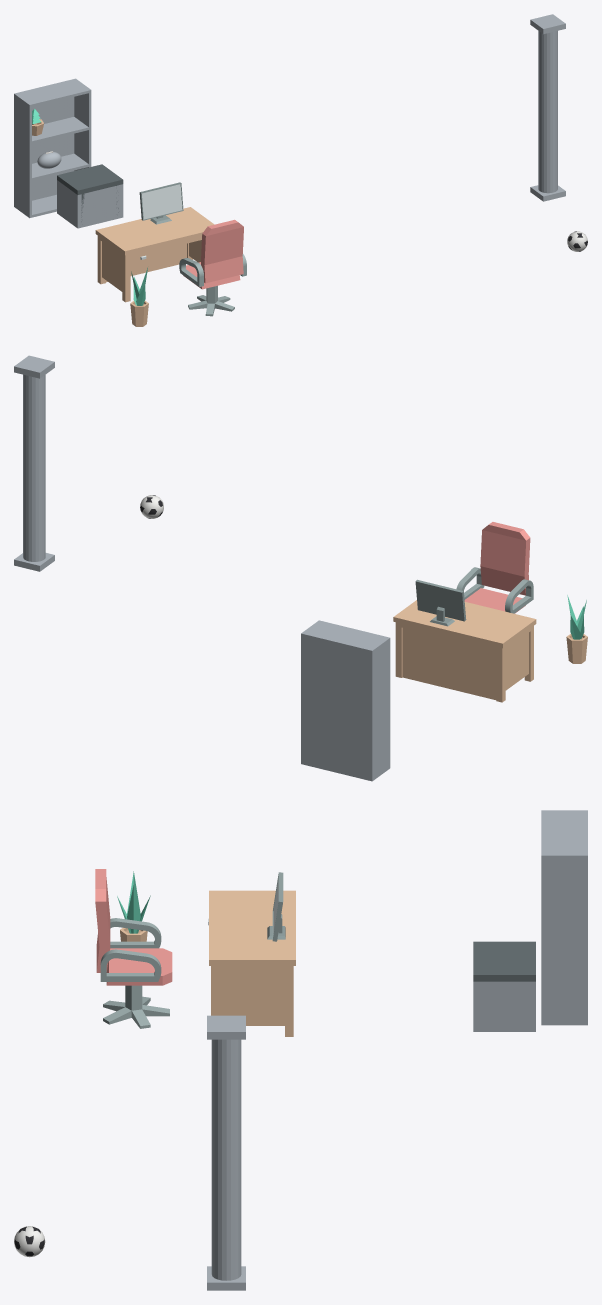
3 renders of one model, top to bottom at view 1: azimuth 30°, elevation 25°; view 2: azimuth 150°, elevation 25°; view 3: azimuth 270°, elevation 25°, orthographic. The views are drawn at different scales.
Parts seen in each view (by area): view 1: desk_blue__desk(Clone), column_cyan__column_cyan shaft, deskchair_black__chair, crate_red__crate_red shell, shelf_orange__shelf_orange back, shelf_orange__shelf_orange side_l, monitor_gray__computerScreen(Clone), crate_red__crate_red lid, shelf_orange__shelf_orange side_r, shelf_orange__shelf_orange board3, shelf_orange__shelf_orange board2, shelf_orange__shelf_orange board1 (+3 smaller); view 2: desk_blue__desk(Clone), shelf_orange__shelf_orange back, deskchair_black__chair, column_cyan__column_cyan shaft, shelf_orange__shelf_orange side_l, monitor_gray__computerScreen(Clone), shelf_orange__shelf_orange board3, column_cyan__column_cyan capital; view 3: desk_blue__desk(Clone), shelf_orange__shelf_orange side_r, column_cyan__column_cyan shaft, deskchair_black__chair, crate_red__crate_red shell, crate_red__crate_red lid, shelf_orange__shelf_orange board3, deskchair_black__chairDesk(Clone), column_cyan__column_cyan capital, soccer_white__soccer_white, monitor_gray__computerScreen(Clone).
Part boxes in pixels (x1,y1,x2,y2): desk_blue__desk(Clone): [95, 207, 214, 302]; column_cyan__column_cyan shaft: [538, 31, 557, 193]; deskchair_black__chair: [179, 219, 246, 289]; crate_red__crate_red shell: [57, 180, 123, 228]; shelf_orange__shelf_orange back: [17, 79, 74, 200]; shelf_orange__shelf_orange side_l: [14, 93, 31, 218]; monitor_gray__computerScreen(Clone): [139, 182, 183, 224]; crate_red__crate_red lid: [57, 164, 123, 194]; shelf_orange__shelf_orange side_r: [73, 78, 91, 170]; shelf_orange__shelf_orange board3: [18, 80, 88, 106]; shelf_orange__shelf_orange board2: [32, 117, 88, 143]; shelf_orange__shelf_orange board1: [32, 153, 88, 180]; desk_blue__desk(Clone): [393, 600, 536, 702]; shelf_orange__shelf_orange back: [304, 633, 369, 780]; deskchair_black__chair: [456, 522, 533, 613]; column_cyan__column_cyan shaft: [23, 374, 45, 561]; shelf_orange__shelf_orange side_l: [369, 637, 390, 781]; monitor_gray__computerScreen(Clone): [415, 579, 466, 626]; shelf_orange__shelf_orange board3: [305, 621, 386, 649]; column_cyan__column_cyan capital: [14, 355, 54, 378]; desk_blue__desk(Clone): [209, 890, 295, 1036]; shelf_orange__shelf_orange side_r: [541, 853, 587, 1025]; column_cyan__column_cyan shaft: [211, 1039, 241, 1280]; deskchair_black__chair: [95, 869, 172, 985]; crate_red__crate_red shell: [473, 981, 535, 1031]; crate_red__crate_red lid: [473, 941, 535, 981]; shelf_orange__shelf_orange board3: [541, 812, 584, 853]; deskchair_black__chairDesk(Clone): [103, 985, 169, 1028]; column_cyan__column_cyan capital: [207, 1015, 245, 1039]; soccer_white__soccer_white: [14, 1226, 45, 1257]; monitor_gray__computerScreen(Clone): [267, 872, 285, 941].
Size of the model in its own units: 5.57 by 2 by 4.02.
